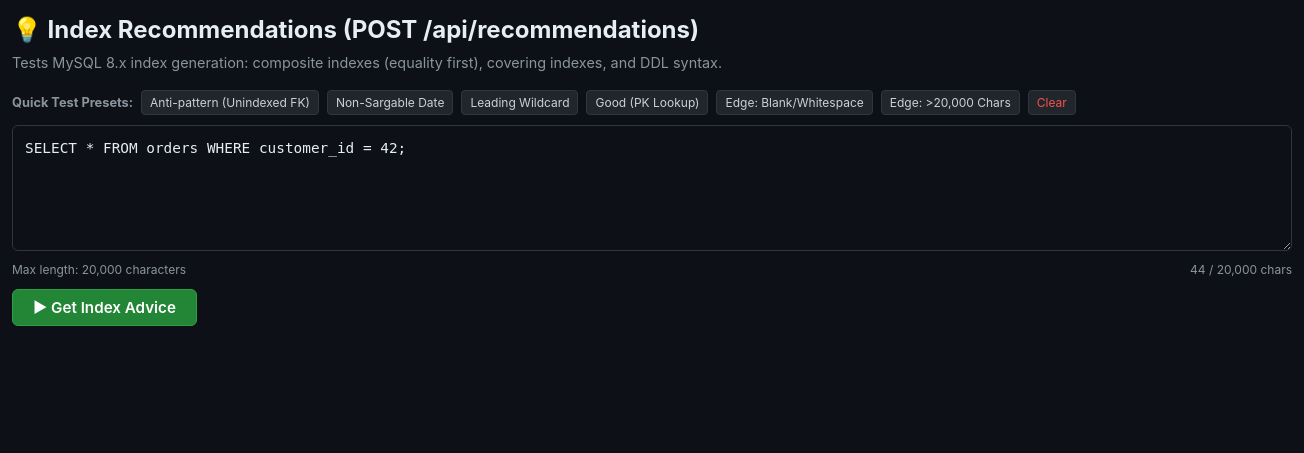
RecommendationsPage Component › handles network failure cleanly
What coordinates should you click on to do the following:
click the button "▶ Get Index Advice"
I would click on:
 (104, 308)
Its box is [12,289,197,326].
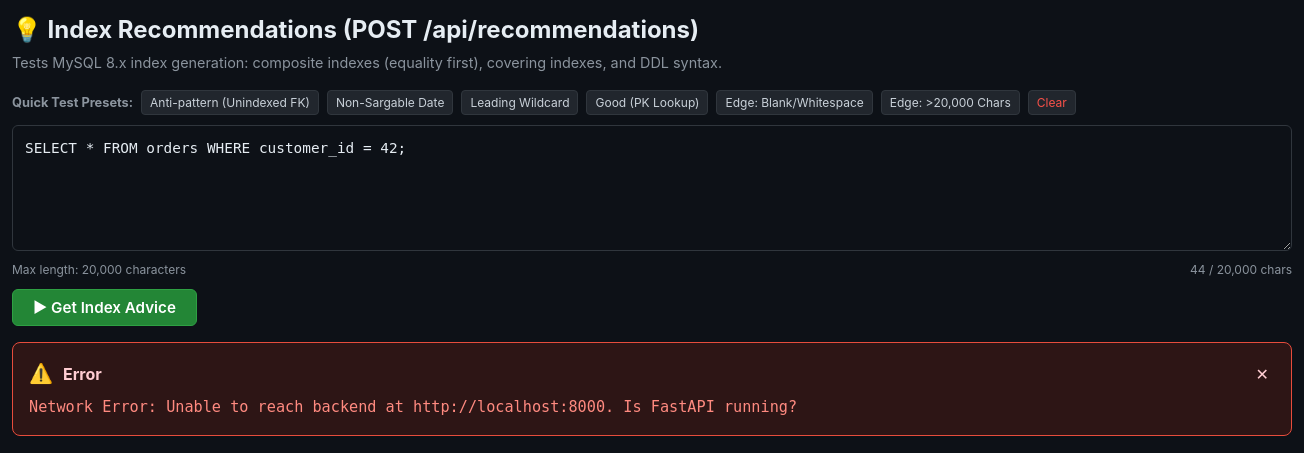
Result: the text "Network Error: Unable to reach backend" is shown at [29,398,797,416]
